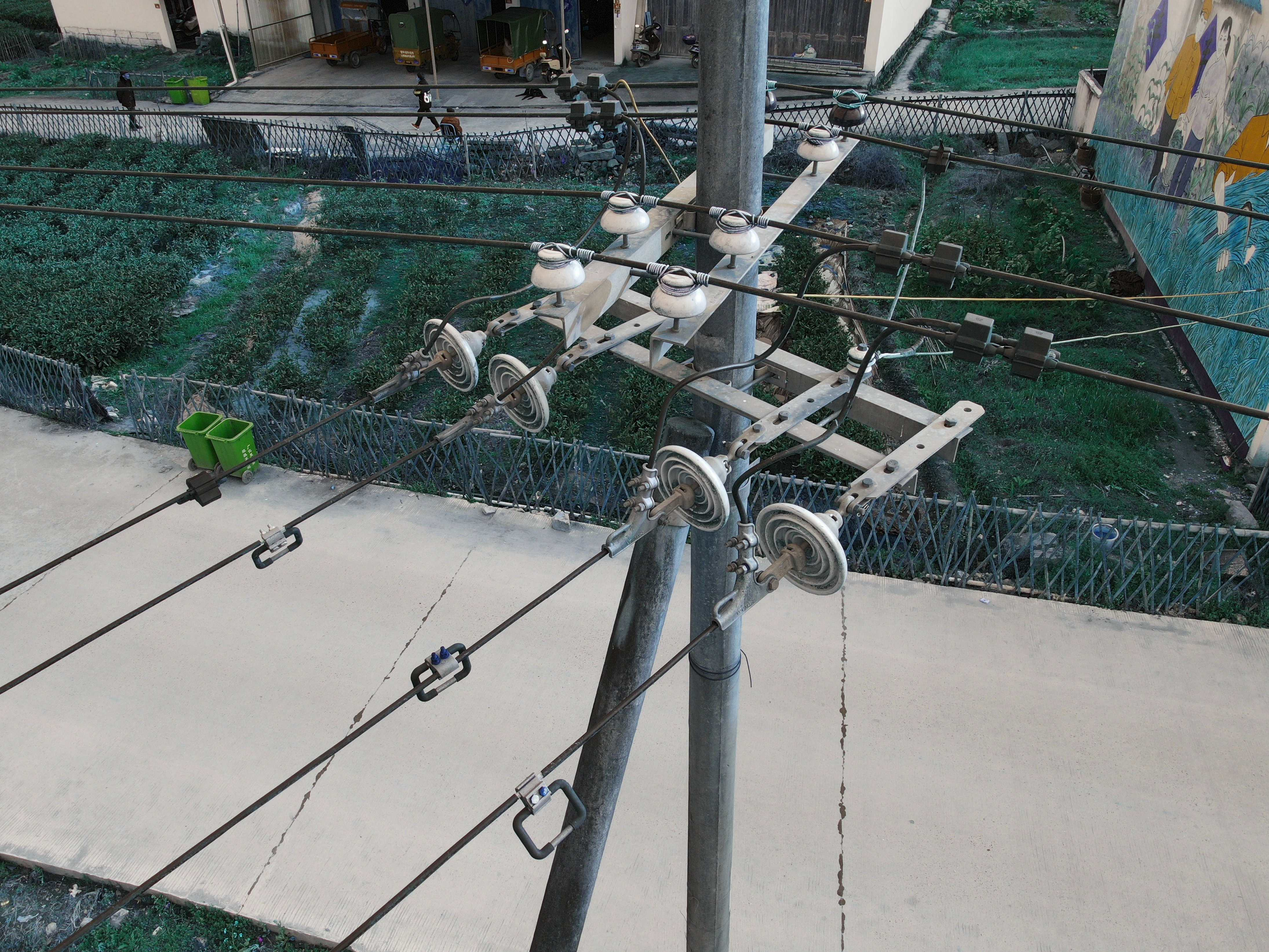severe_soiling_no_discharge_whole: (753, 496, 848, 594), (652, 443, 732, 534), (484, 350, 552, 434), (420, 318, 481, 395), (647, 265, 709, 322)
